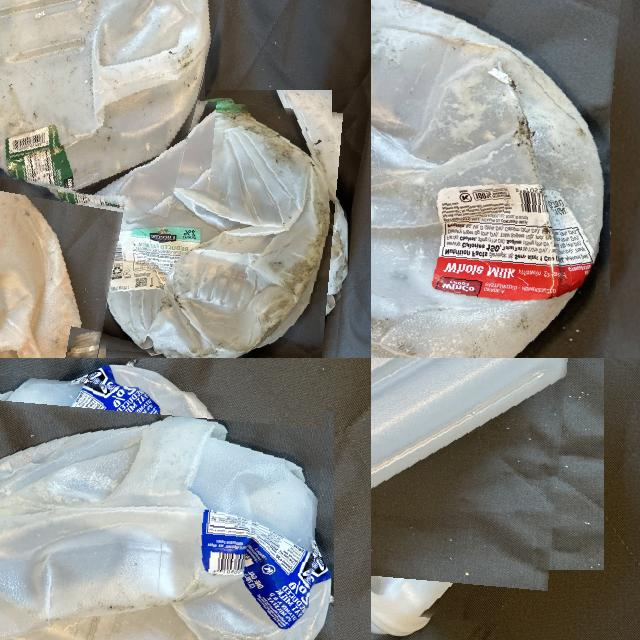milk-jug: (371, 0, 611, 358), (0, 378, 318, 640), (83, 97, 351, 358), (371, 358, 577, 617), (0, 0, 221, 204), (0, 170, 117, 358)
